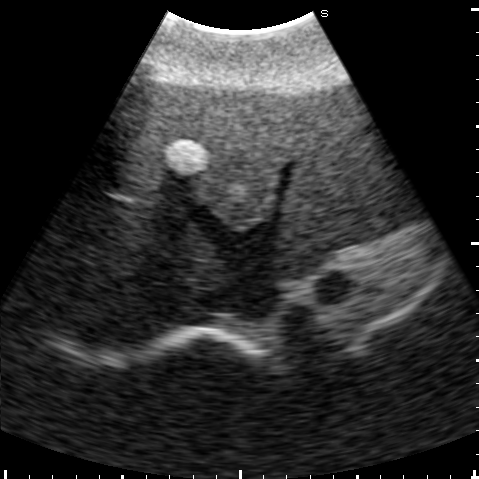S2: (277, 96, 396, 274)
S4: (121, 80, 306, 232)
S7: (27, 246, 174, 348)
S8: (77, 157, 217, 278)
Tumor: (164, 139, 211, 176)
